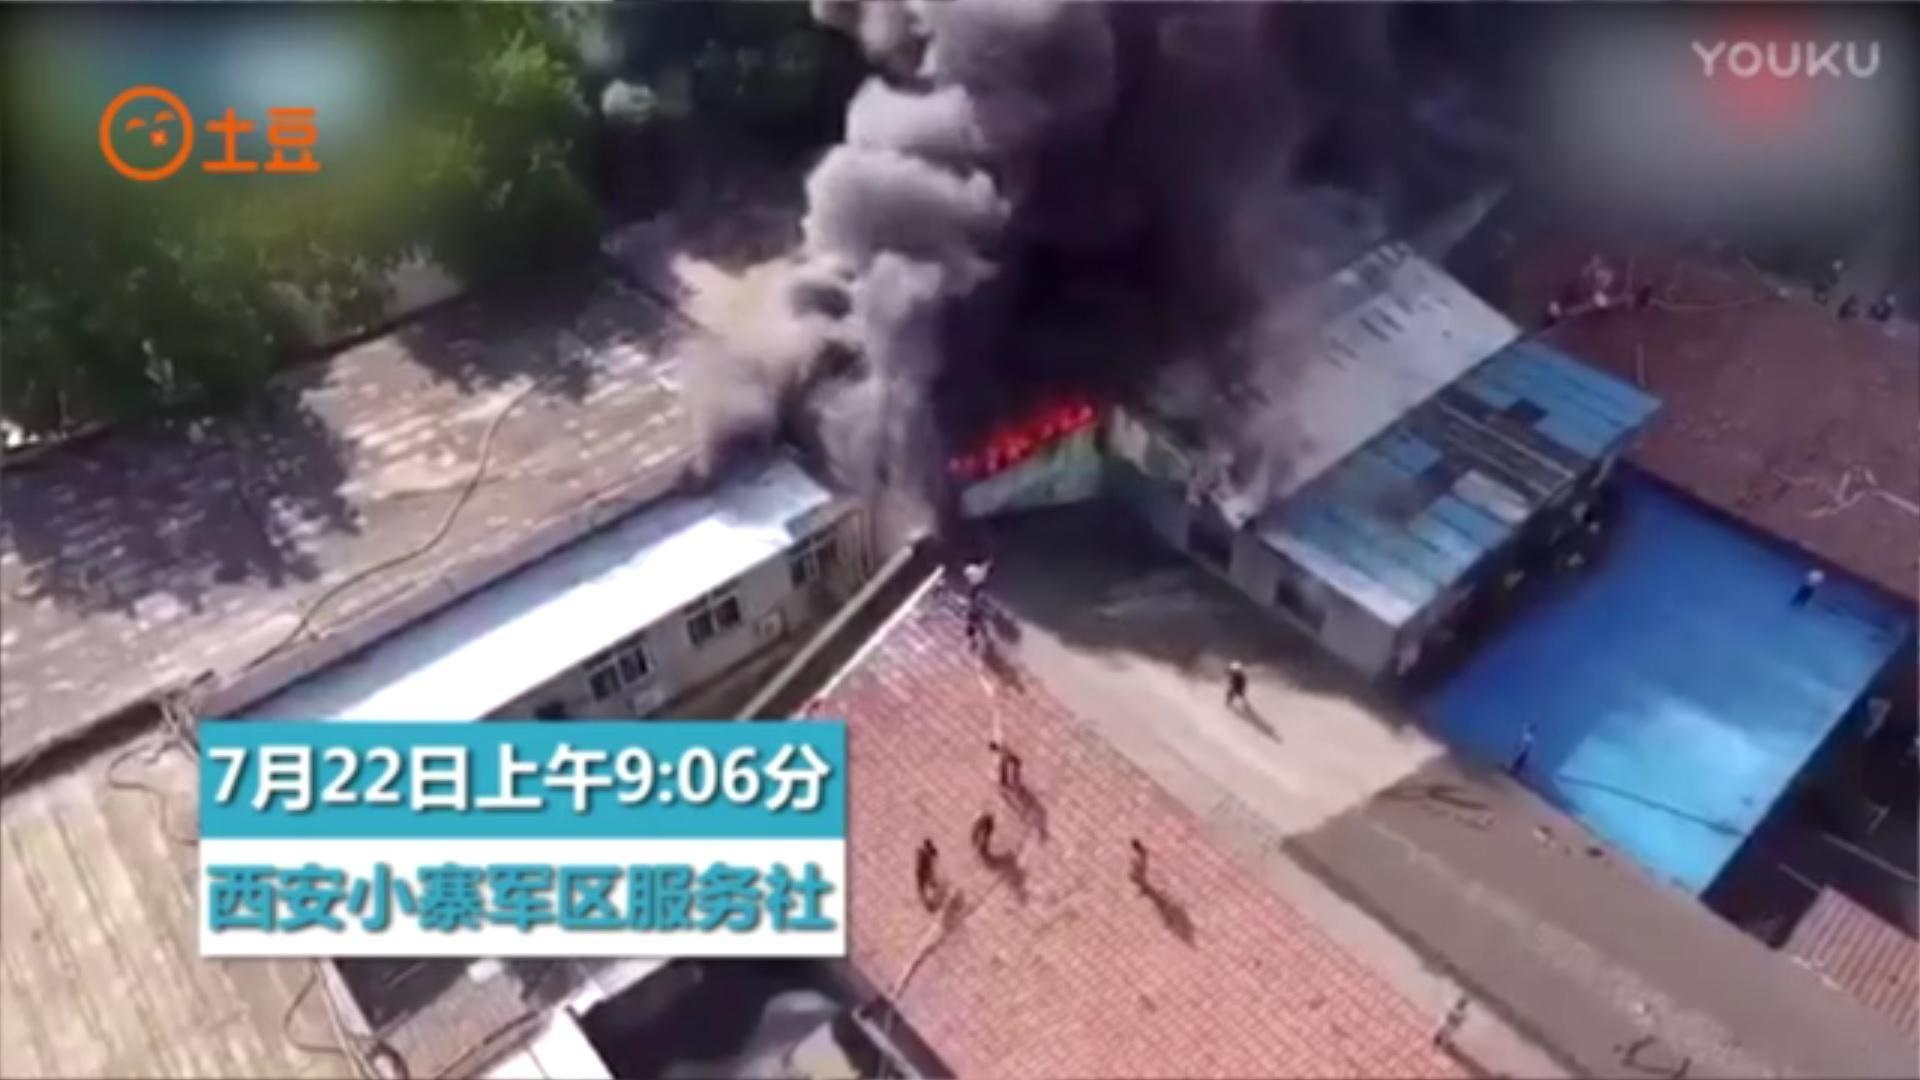fire: (953, 394, 1098, 475)
